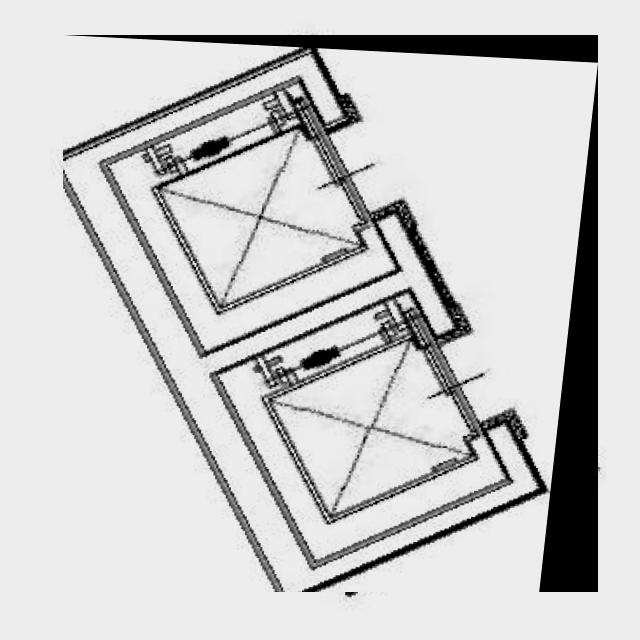lift: (63, 35, 598, 592)
